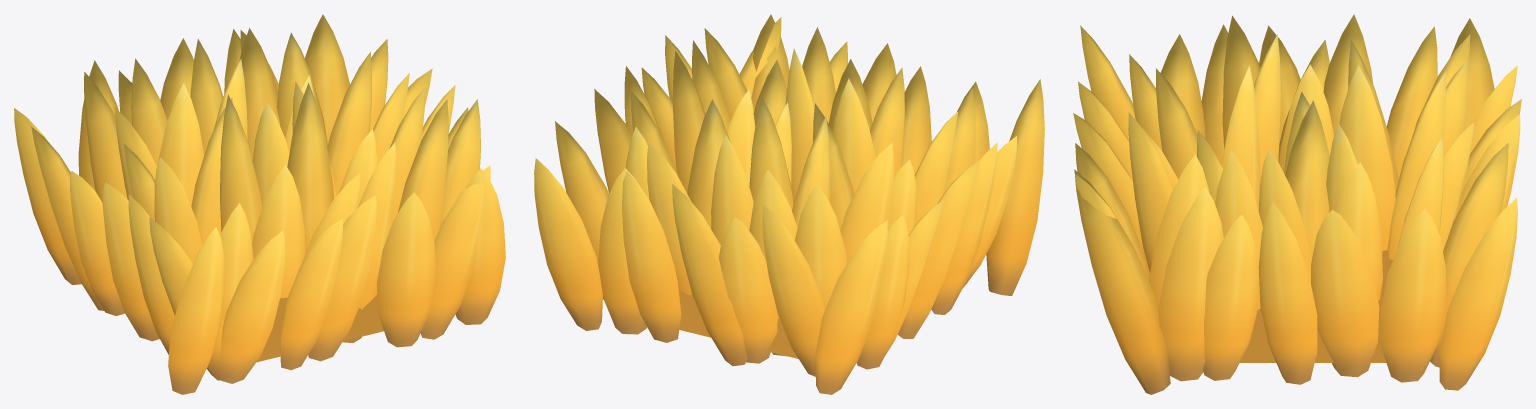
Rendered from grass_b.glb.
3 views of the same model, side by side, from view 1: azimuth 30°, elevation 25°; view 2: azimuth 150°, elevation 25°; view 3: azimuth 270°, elevation 25° (orthographic). The views are drawn at different scales.
Visible parts, largest first — view 1: grass_b; view 2: grass_b; view 3: grass_b.
Part boxes in pixels (x1,y1,x2,y2): grass_b: [14, 14, 505, 394]; grass_b: [534, 14, 1044, 394]; grass_b: [1073, 14, 1521, 394].
Bounding box in the file's own units: 1.07 × 0.682 × 1.06.
Materials: 1 (1 with a texture image).
